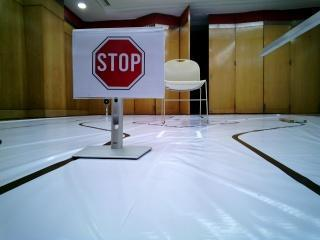stop: (76, 32, 159, 95)
